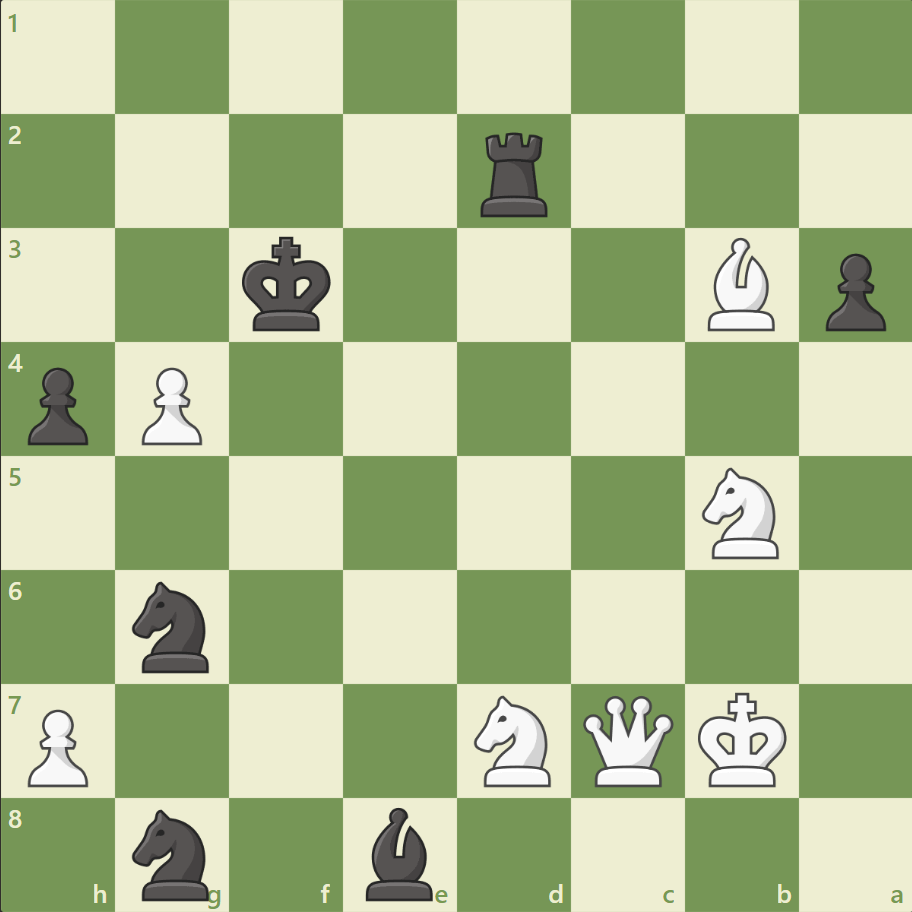B: (698, 233, 782, 336)
K: (692, 685, 792, 793)
N: (465, 688, 562, 791), (692, 461, 789, 564)
P: (20, 700, 95, 791), (133, 359, 208, 450)
Q: (578, 690, 677, 789)
b: (358, 801, 442, 904)
k: (238, 231, 338, 339)
n: (124, 802, 222, 904), (124, 575, 222, 677)
p: (20, 359, 95, 450), (815, 246, 889, 337)
r: (473, 125, 556, 222)
